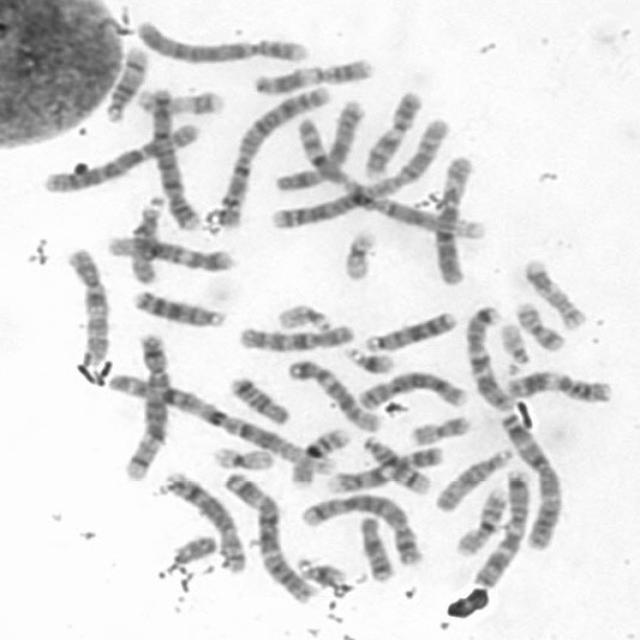A1: (284, 113, 488, 242), (103, 369, 336, 479)
A2: (272, 118, 458, 233), (216, 83, 332, 229)
A3: (217, 468, 317, 606), (497, 409, 566, 551)
B4: (140, 83, 207, 233), (130, 13, 312, 66)
B5: (297, 490, 425, 569), (116, 327, 173, 482)
C10: (60, 245, 112, 368), (233, 318, 357, 352)
C11: (248, 54, 378, 96), (498, 365, 615, 404)
C12: (282, 354, 388, 433), (104, 231, 235, 274)
C6: (37, 118, 201, 196), (431, 150, 476, 288)
C7: (467, 465, 533, 589), (461, 302, 514, 411)
C8: (160, 466, 250, 576), (353, 364, 470, 412)
C9: (326, 442, 446, 495), (359, 86, 425, 179)
D13: (359, 307, 458, 353), (127, 284, 228, 328)
D14: (356, 431, 434, 496), (100, 41, 151, 122)
D15: (430, 442, 516, 514), (126, 190, 168, 286)
E16: (286, 422, 352, 488), (452, 484, 509, 558)
E17: (520, 253, 589, 331), (128, 83, 230, 116)
E18: (224, 372, 292, 426), (354, 512, 396, 582)
F19: (338, 225, 380, 282), (208, 441, 276, 472)
F20: (509, 295, 569, 352), (406, 411, 472, 447)
G21: (294, 554, 348, 587), (340, 344, 397, 375)
G22: (273, 300, 335, 333), (496, 319, 532, 367)
X: (268, 96, 366, 194)
Y: (166, 530, 220, 568)
